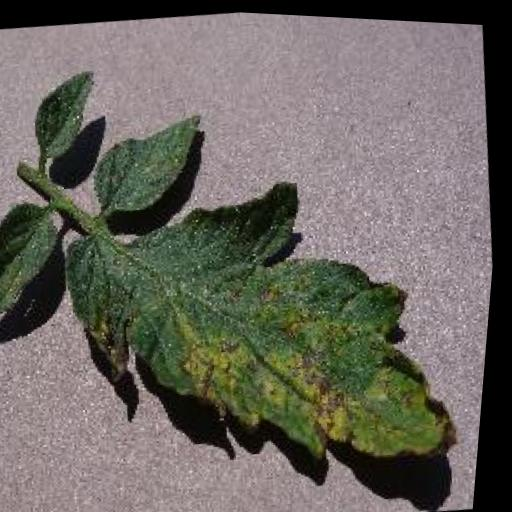Septoria: (50, 154, 483, 492)
